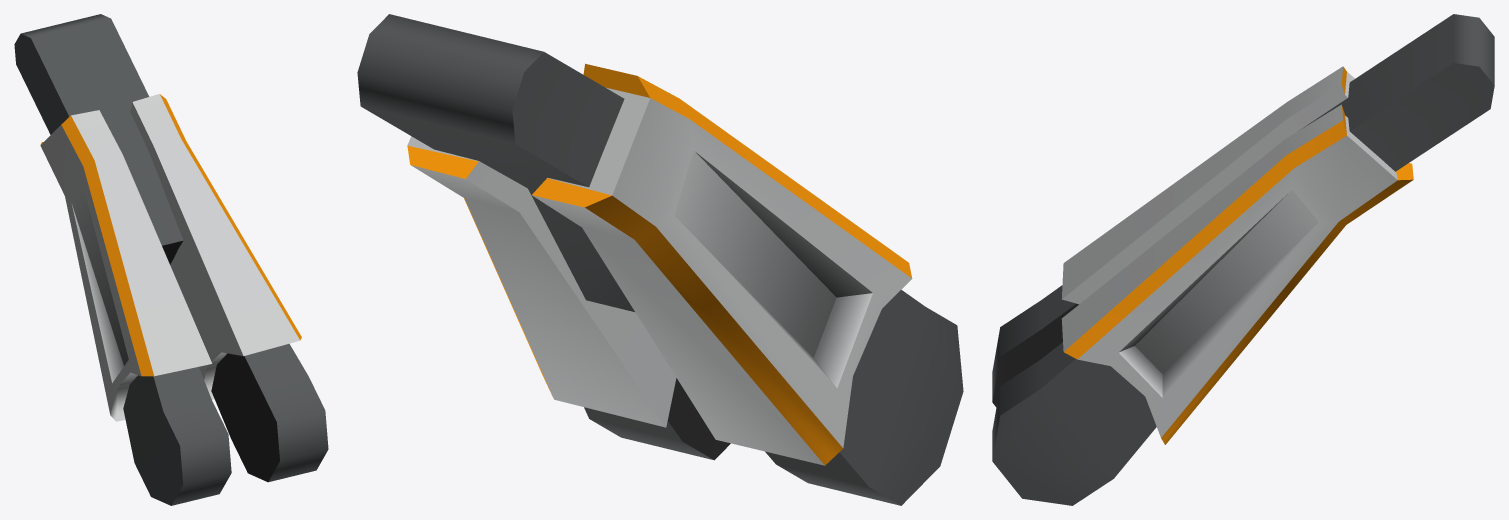
The model's file is Turret_001_Part_02.fbx.
3 views of the same model, side by side, from view 1: azimuth 30°, elevation 25°; view 2: azimuth 150°, elevation 25°; view 3: azimuth 270°, elevation 25° (orthographic). The views are drawn at different scales.
Parts seen in each view (by area): view 1: Turret_001_Part_02; view 2: Turret_001_Part_02; view 3: Turret_001_Part_02.
Part boxes in pixels (<box>): Turret_001_Part_02: <box>14,14,328,505</box>; Turret_001_Part_02: <box>357,14,963,505</box>; Turret_001_Part_02: <box>992,14,1494,505</box>.
Size of the model in its own units: 51.04 by 111 by 103.
